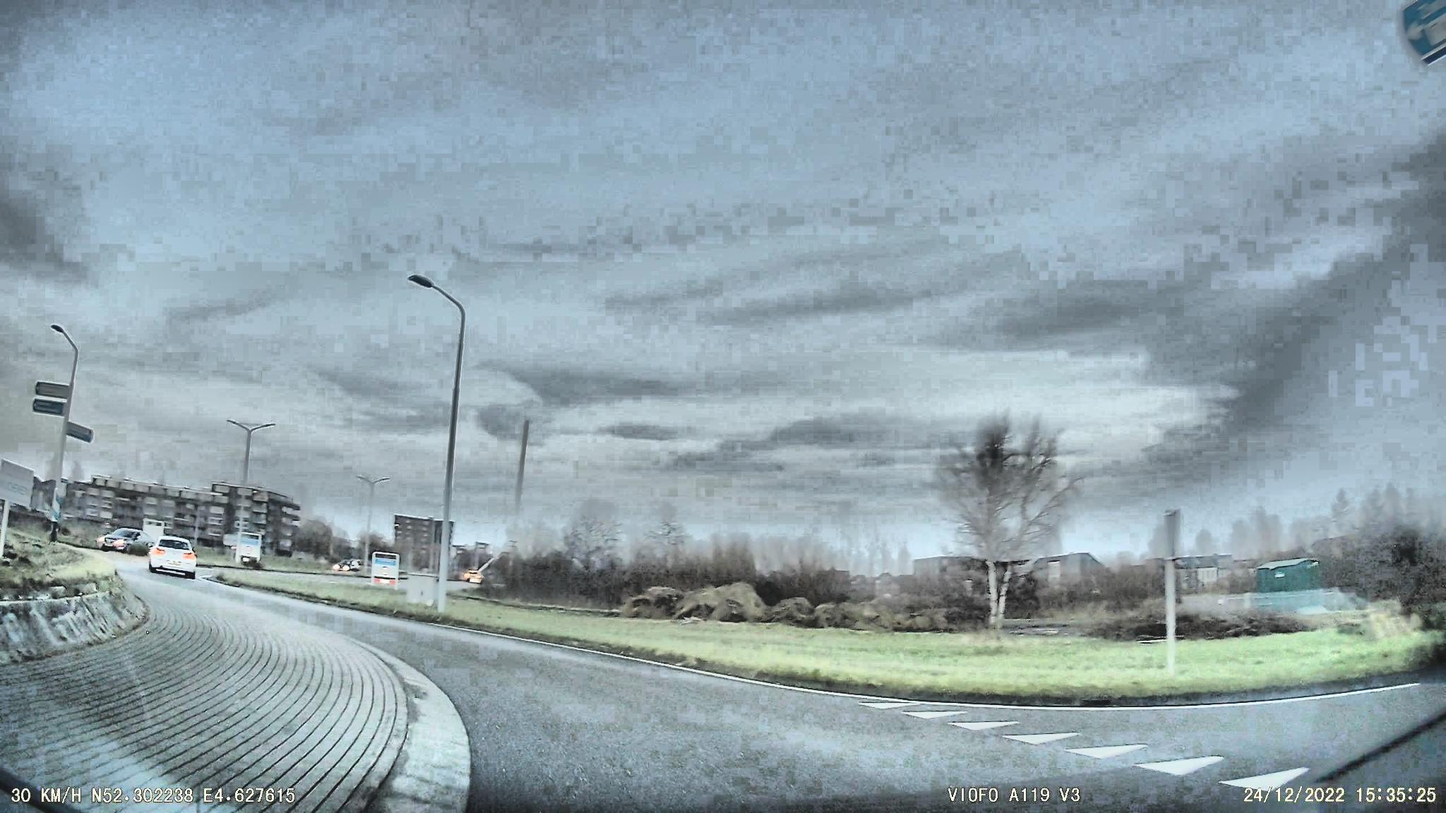Roads: (291, 605, 1446, 813)
